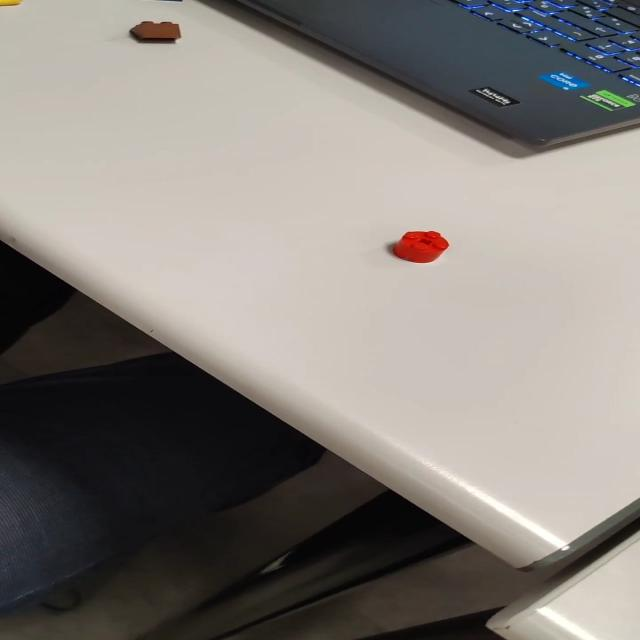S2x2x1: (391, 228, 455, 264)
